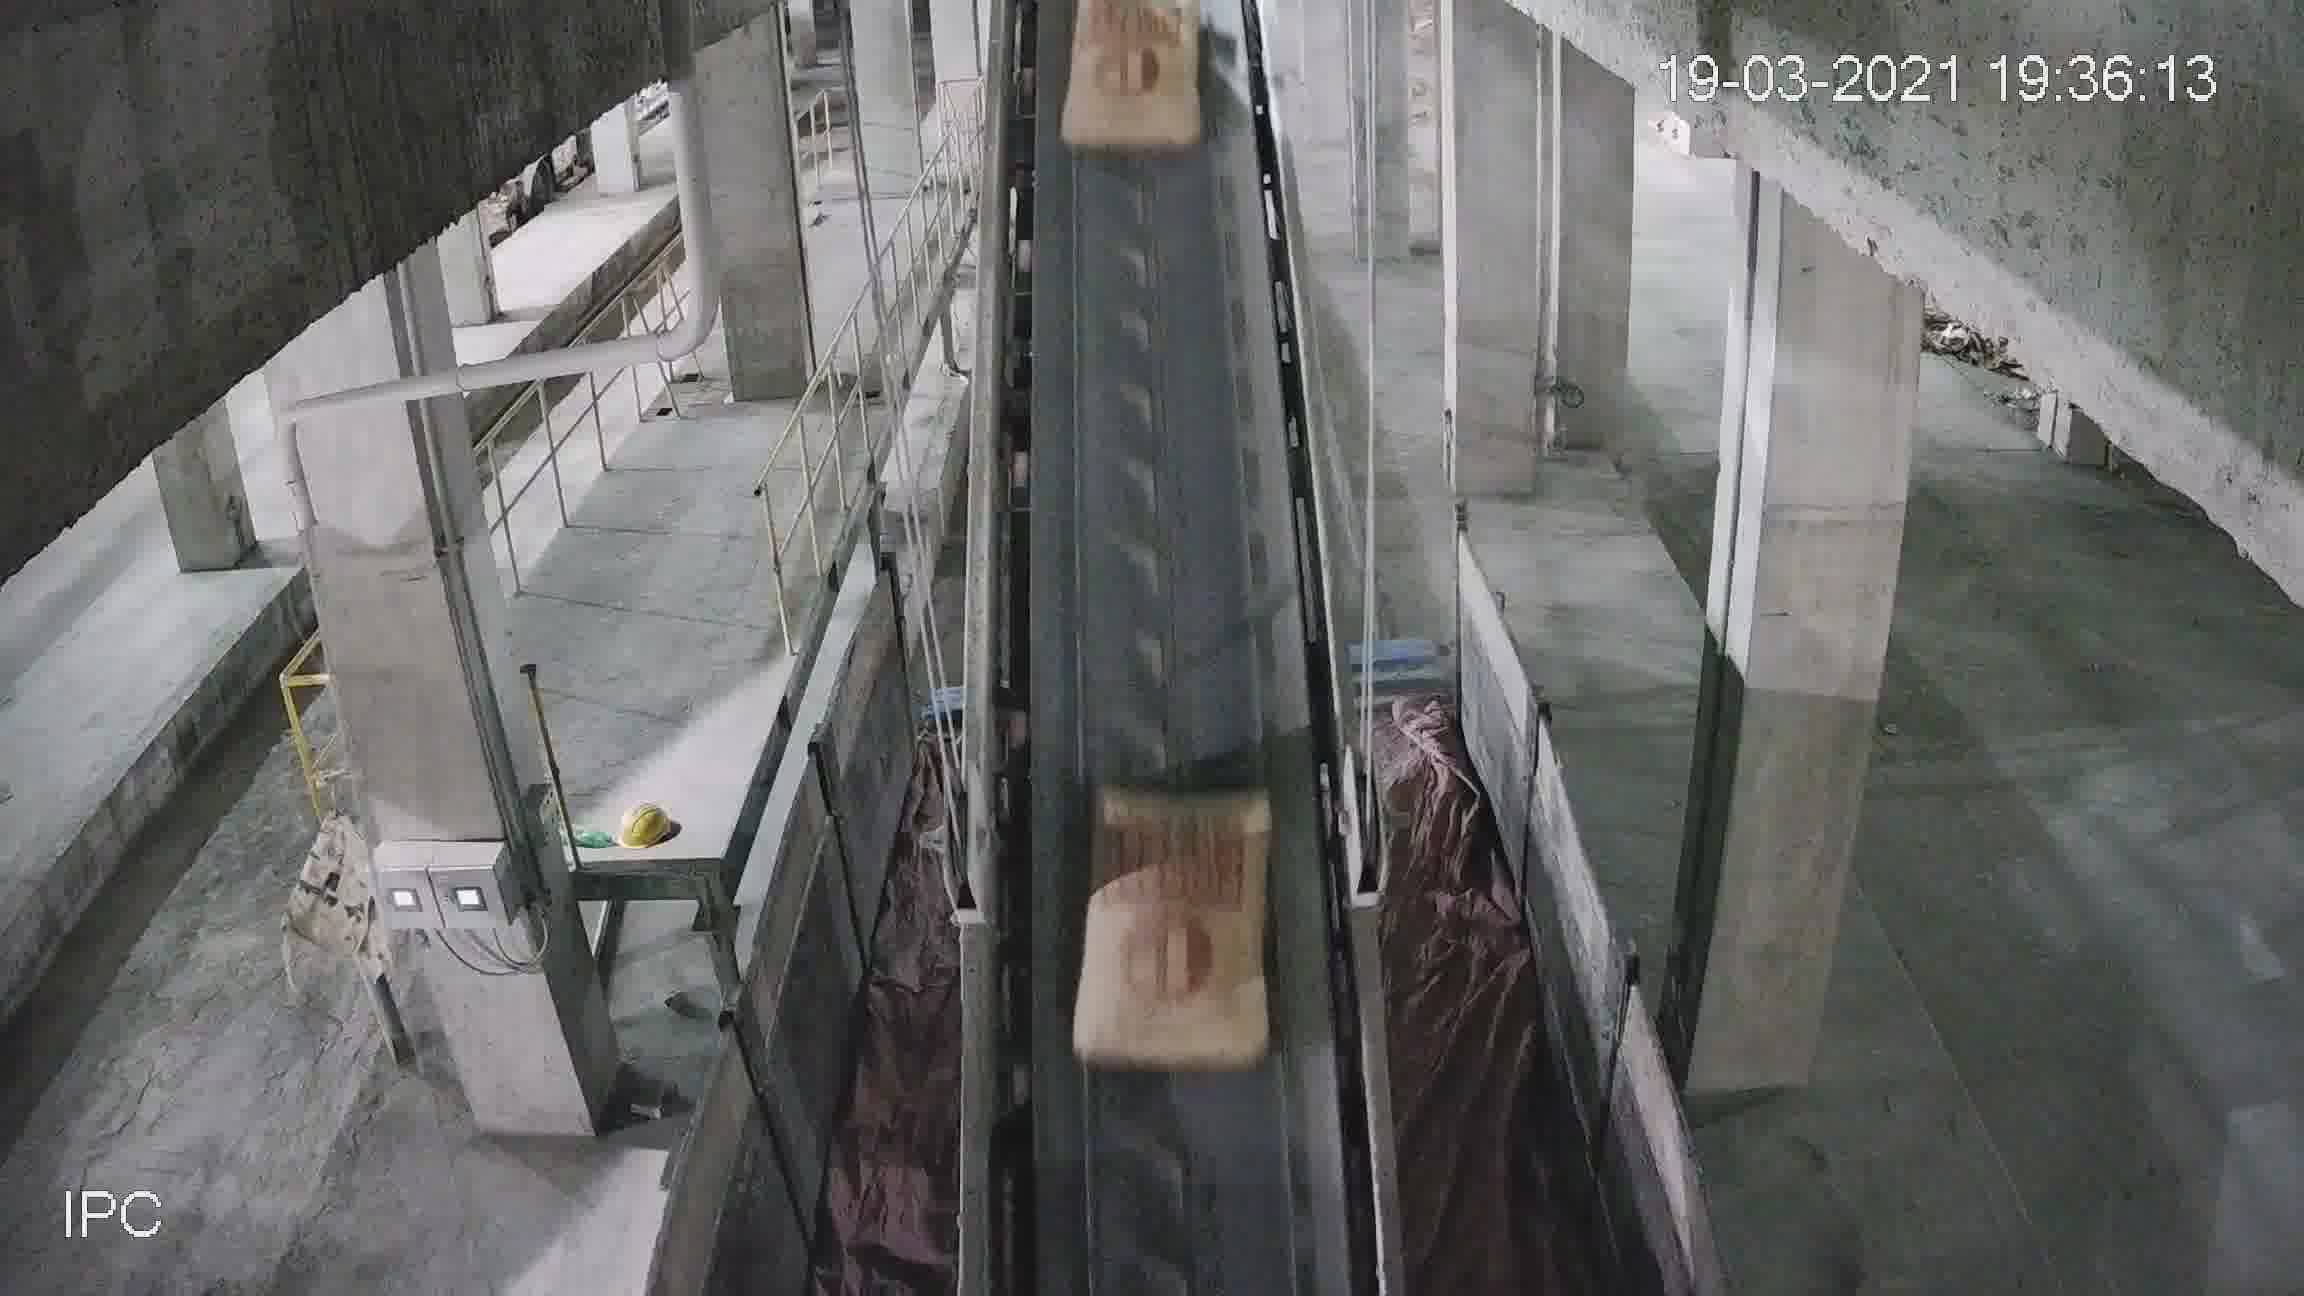bag: (1074, 775, 1269, 1074), (1067, 21, 1206, 147)
belt: (956, 13, 1374, 1203)
